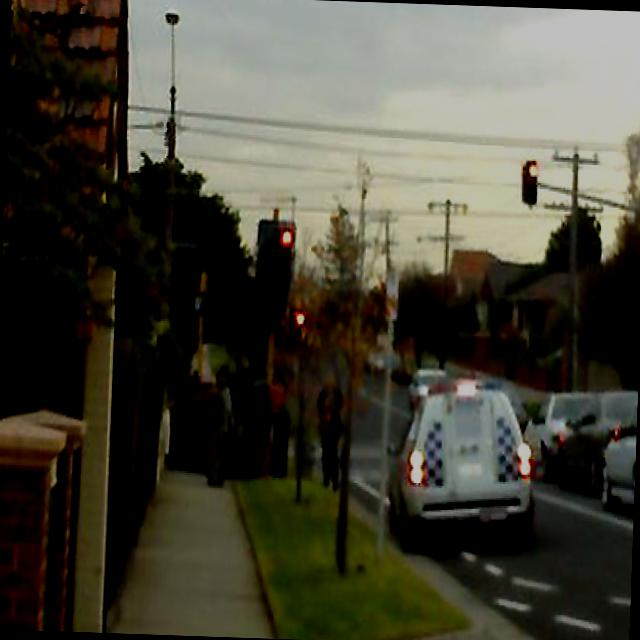Vehicle: (384, 362, 540, 554), (552, 385, 638, 492), (520, 392, 594, 481), (596, 396, 638, 518), (364, 347, 384, 372)
